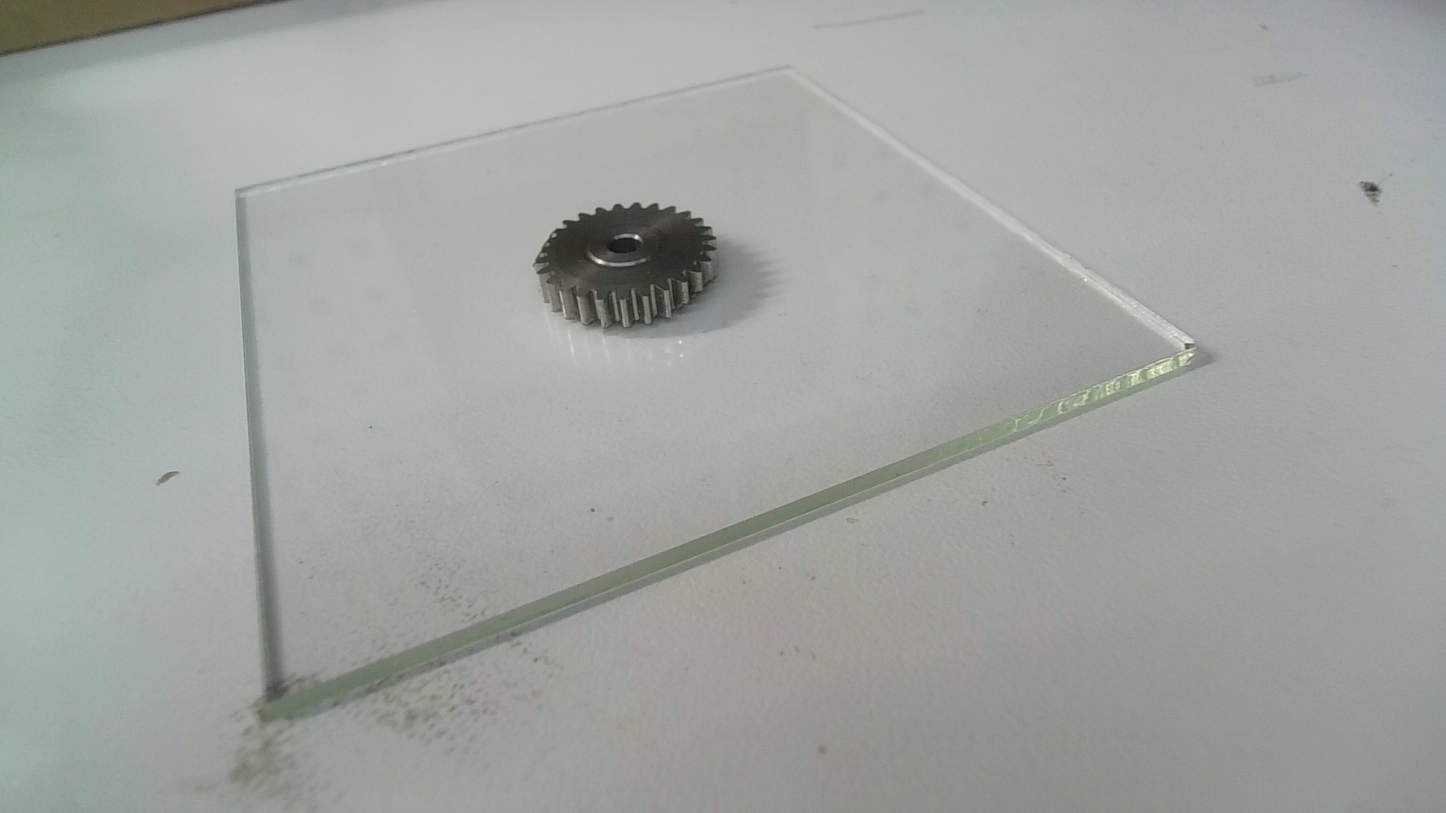gear: (528, 195, 721, 329)
